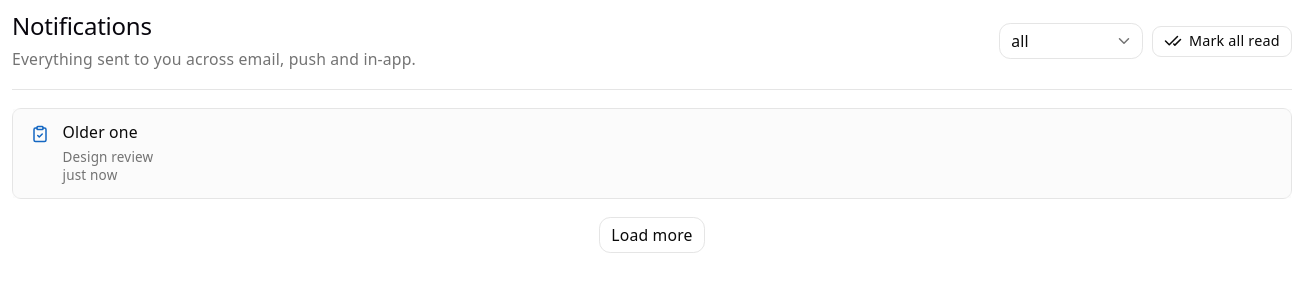
Test: NotificationsPage › appends the next page on the cursor rather than replacing the list
Expected: the text "Older one" is shown, top-left (62, 122), bottom-right (138, 144)
Click the button "Load more" at (652, 235), box top-left (599, 217), bottom-right (705, 253)
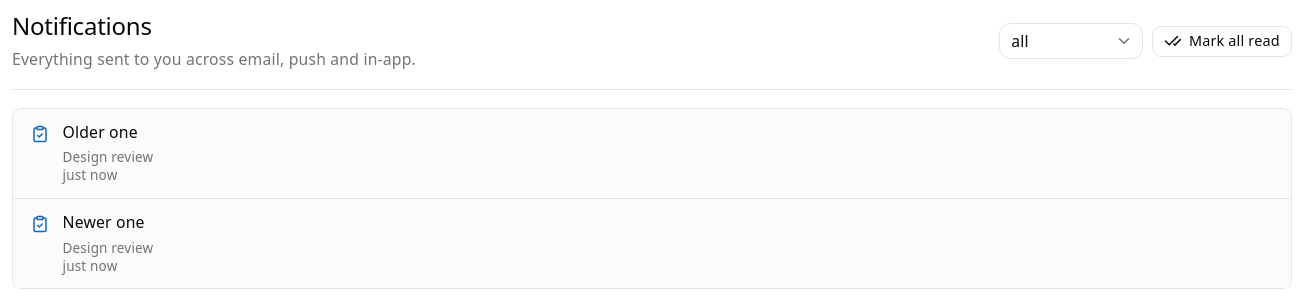
Expected: the text "Older one" is shown, top-left (62, 122), bottom-right (138, 144)
Now the text "Newer one" is shown, box top-left (62, 212), bottom-right (145, 234)
Now the button "Load more" is gone
